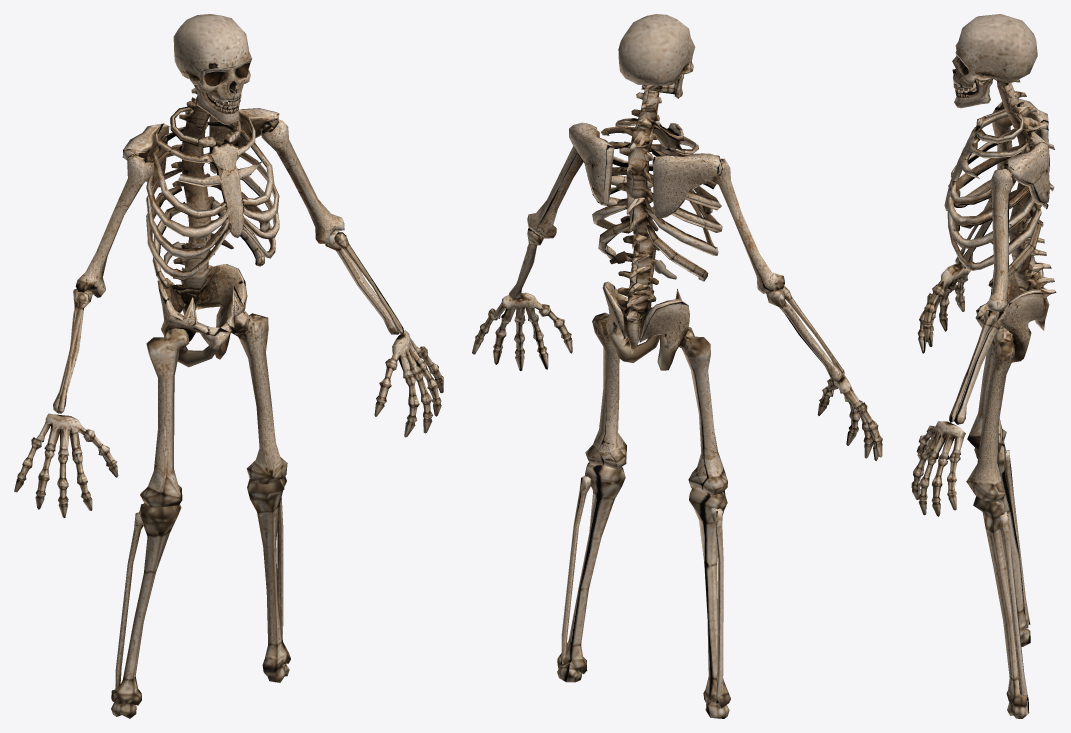
File: body.fbx
3 views of the same model, side by side, from view 1: azimuth 30°, elevation 25°; view 2: azimuth 150°, elevation 25°; view 3: azimuth 270°, elevation 25° (orthographic). The views are drawn at different scales.
Parts seen in each view (by area): view 1: Body; view 2: Body; view 3: Body.
Boxes of the visible parts, x1,y1,x2,y2 form: Body: [14, 14, 443, 718]; Body: [472, 14, 882, 718]; Body: [911, 14, 1056, 718].
Bounding box in the file's own units: 58.06 × 89.8 × 17.82.
Materials: 1 (1 with a texture image).
